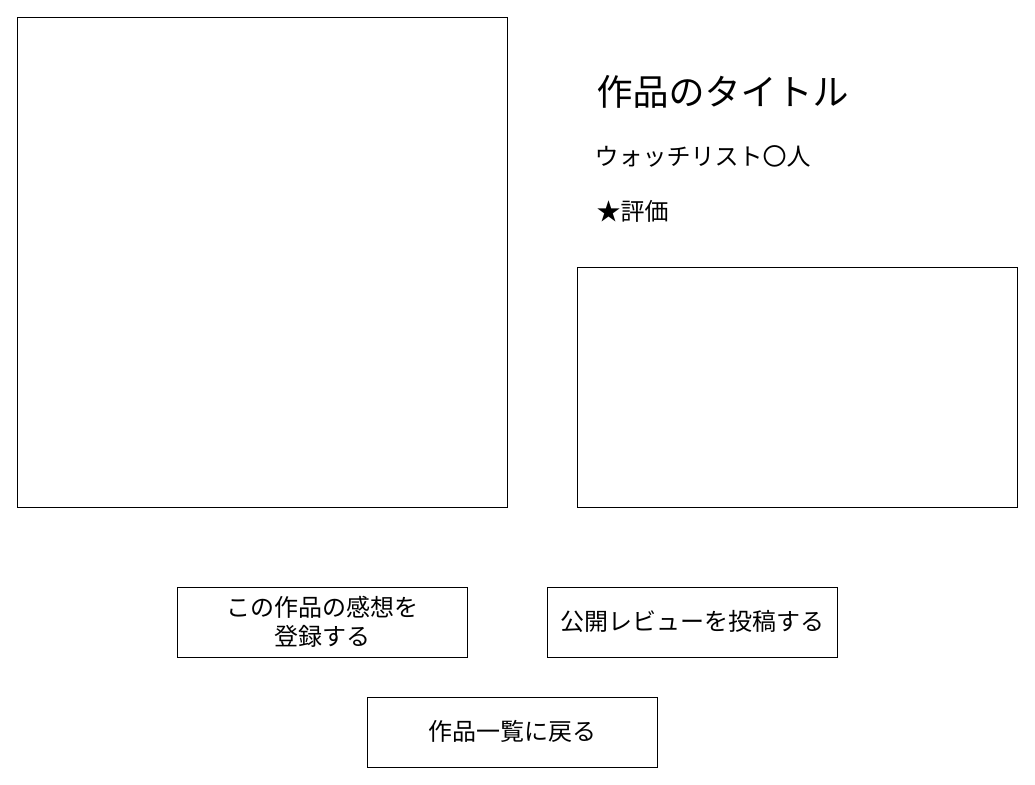
This 1035x785 diagram has some shape labels left out. Each missing label, with the centre of its shape:
あらすじ: (797,387)
作品画像: (262,262)
